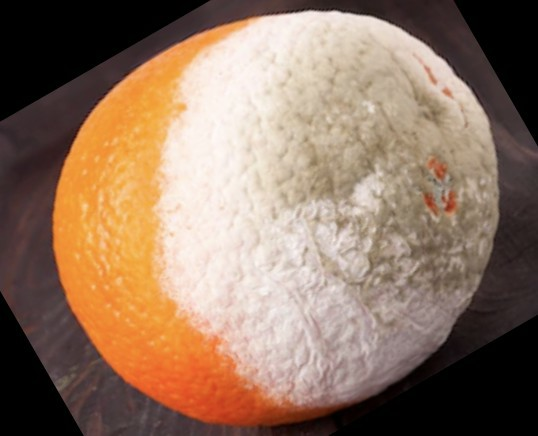rotten_orange: (53, 11, 499, 425)
